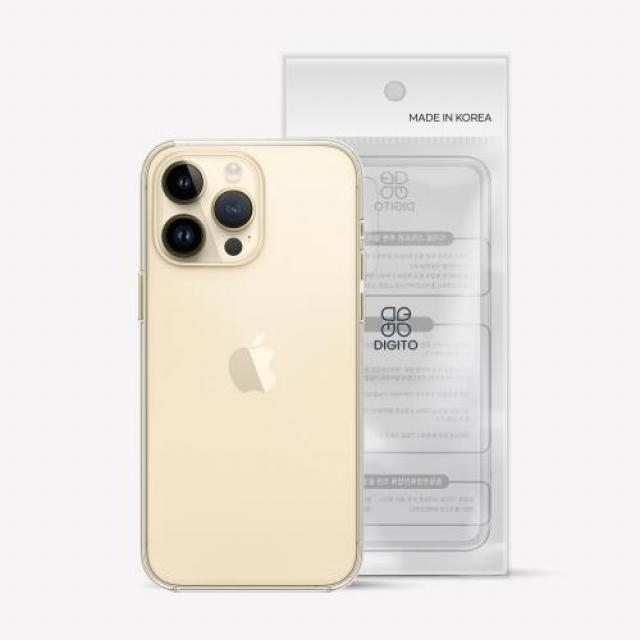phone: (134, 137, 366, 594)
